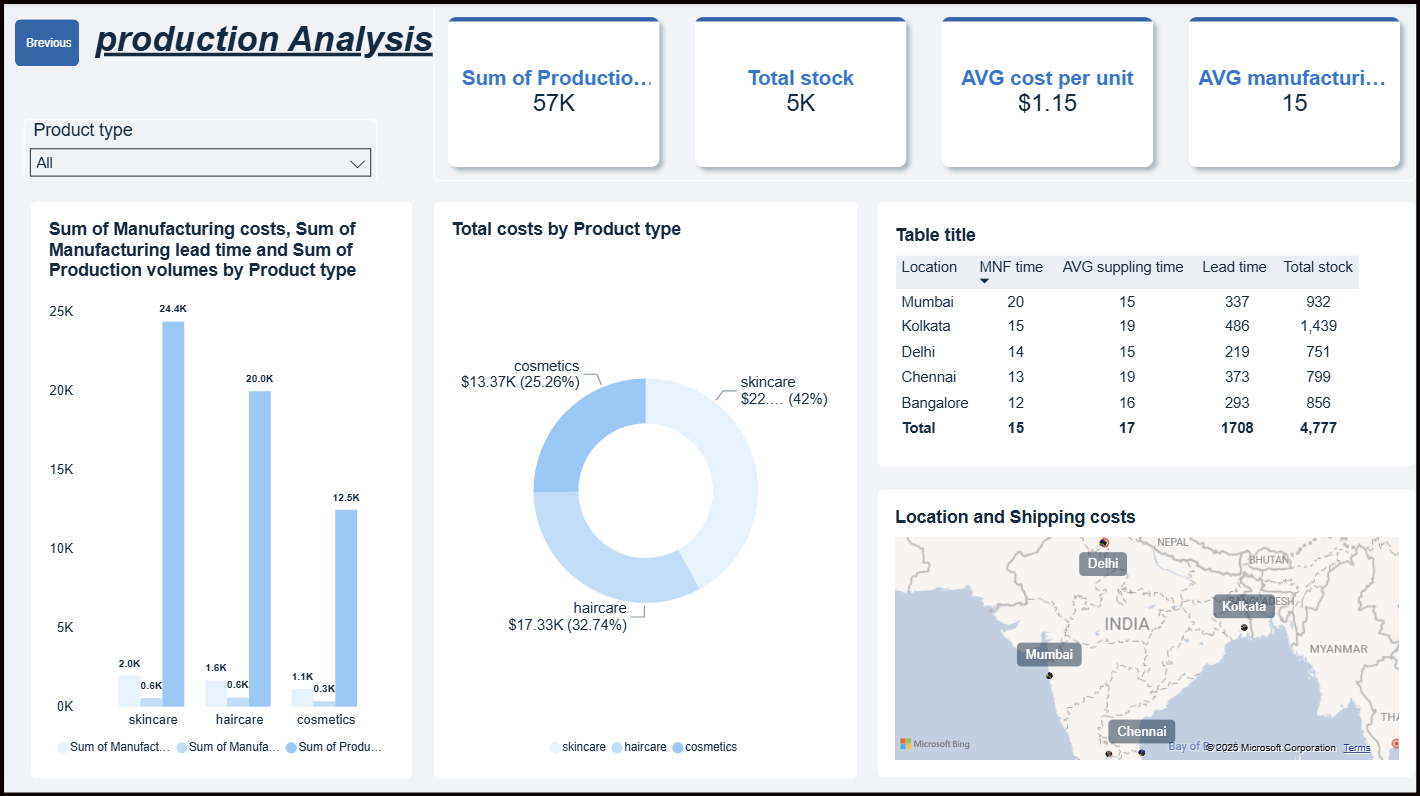

This screenshot's page, from the dashboard's own definition file:
{"tool":"powerbi","page":{"name":"production","canvas":[1280,720],"ordinal":2},"visuals":[{"type":"cardVisual","fields":{"Data":["Sum(supply_chain_data.Production volumes)","Key Measures.Total stock","Key Measures.AVG cost per unit","Key Measures.AVG manufacturing time"]},"box":[389.2,0,891.1,161.4],"z":0},{"type":"clusteredColumnChart","fields":{"Category":["supply_chain_data.Product type"],"Y":["Sum(supply_chain_data.Manufacturing costs)","Sum(supply_chain_data.Manufacturing lead time)","Sum(supply_chain_data.Production volumes)"]},"box":[23.3,180.2,345.3,523.3],"z":1000},{"type":"donutChart","fields":{"Category":["supply_chain_data.Product type"],"Y":["Key Measures.Total costs"]},"box":[389.5,180.2,383.7,523.3],"z":2000},{"type":"tableEx","fields":{"Values":["supply_chain_data.Location","Key Measures.AVG manufacturing time","Key Measures.AVG suppling lead time","Sum(supply_chain_data.Lead time)","Key Measures.Total stock"]},"box":[791.4,180.3,487.7,239.7],"z":3000},{"type":"map","fields":{"Category":["supply_chain_data.Location"],"Series":["supply_chain_data.Shipping costs"]},"box":[791.4,441.4,487.7,261],"z":4000},{"type":"slicer","fields":{"Values":["supply_chain_data.Product type"]},"box":[17.4,105.8,320.9,55.8],"z":5000},{"type":"textbox","box":[81.9,14.2,307.3,52.2],"z":6000},{"type":"actionButton","box":[9.5,14.2,58.1,42.7],"z":7000}]}

Visuals, with their boxes in screenshot pixels (x1, y1, x2, y2), scaled from the page's 1280x720 canvas onto the 1420x796 screenshot:
cardVisual - Sum(supply_chain_data.Production volumes) x Key Measures.Total stock: x1=432, y1=0, x2=1419, y2=178
clusteredColumnChart - supply_chain_data.Product type x Sum(supply_chain_data.Manufacturing costs): x1=26, y1=199, x2=409, y2=778
donutChart - supply_chain_data.Product type x Key Measures.Total costs: x1=432, y1=199, x2=858, y2=778
tableEx - supply_chain_data.Location x Key Measures.AVG manufacturing time: x1=878, y1=199, x2=1419, y2=464
map - supply_chain_data.Location x supply_chain_data.Shipping costs: x1=878, y1=488, x2=1419, y2=777
slicer - supply_chain_data.Product type: x1=19, y1=117, x2=375, y2=179
textbox: x1=91, y1=16, x2=432, y2=73
actionButton: x1=11, y1=16, x2=75, y2=63
